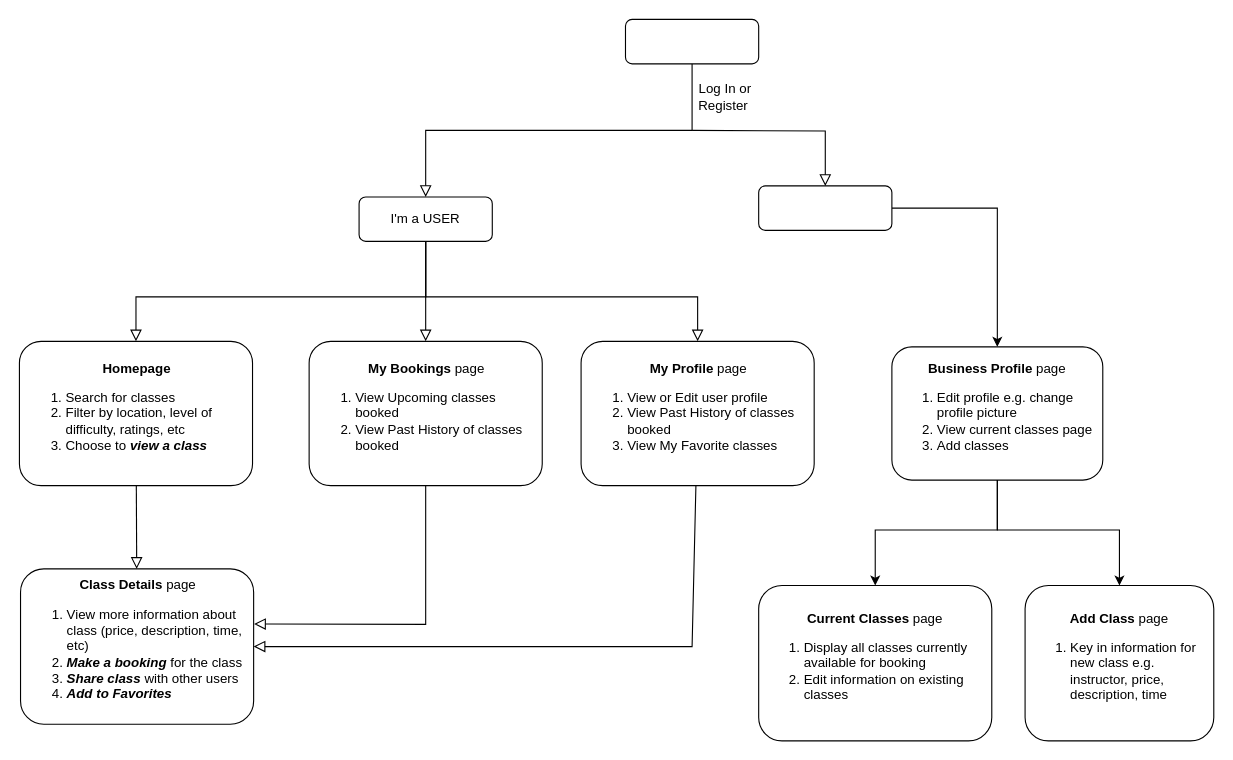
Some shapes in this 1233 by 760 pixel diagram are drawn without their labels. The box of each missing label's shape, as (x1, y1, x2, y2) in pixels:
I'm a BUSINESS: (758, 185, 892, 230)
Start App: (624, 18, 759, 64)
